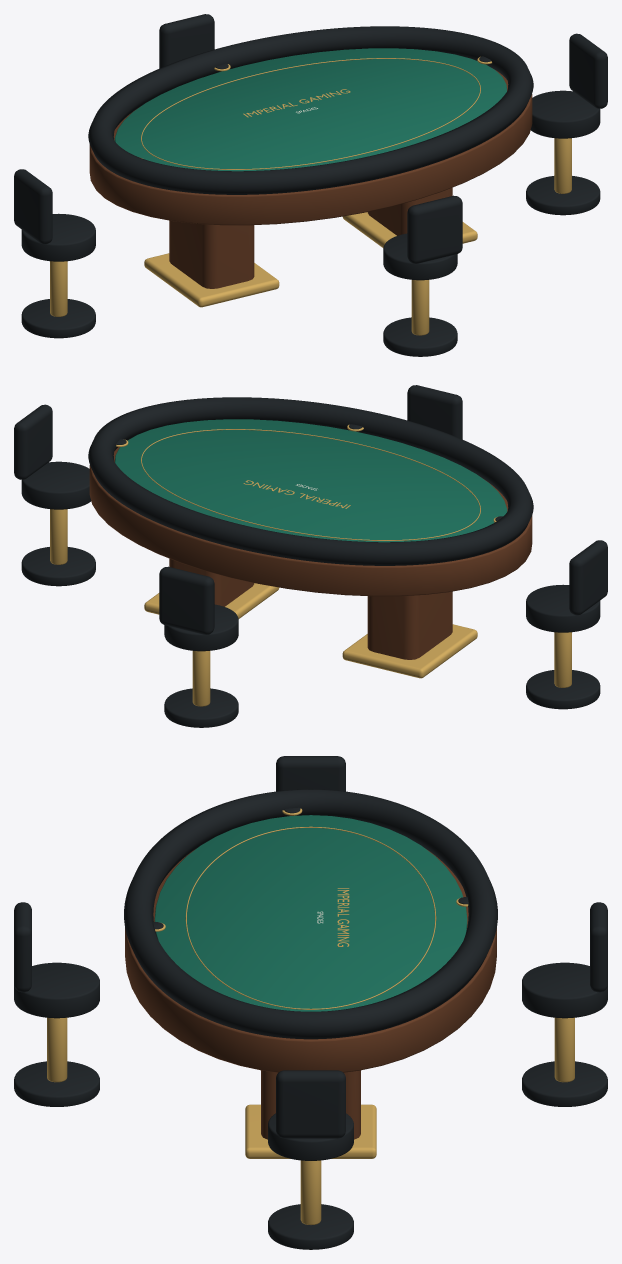
The model's file is Spades_4.glb.
3 renders of one model, top to bottom at view 1: azimuth 30°, elevation 25°; view 2: azimuth 150°, elevation 25°; view 3: azimuth 270°, elevation 25°, orthographic. The views are drawn at different scales.
Visible parts, largest first — view 1: Emerald playing surface, Padded perimeter rail, Walnut table cabinet, Pedestal, Seat 00 backrest, Seat 01 cushion, Pedestal brass shoe, Seat 03 cushion, Seat 03 backrest, Seat 01 backrest, Seat 02 backrest, Seat 00 foot (+9 smaller); view 2: Emerald playing surface, Padded perimeter rail, Walnut table cabinet, Pedestal, Seat 02 backrest, Seat 01 cushion, Pedestal brass shoe, Seat 03 cushion, Seat 03 backrest, Seat 01 backrest, Seat 00 backrest, Seat 01 foot (+9 smaller); view 3: Emerald playing surface, Padded perimeter rail, Walnut table cabinet, Seat 01 backrest, Seat 00 cushion, Seat 02 cushion, Seat 01 foot, Seat 00 foot, Seat 02 foot, Seat 03 backrest, Pedestal brass shoe.001, Seat 01 cushion (+7 smaller).
Boxes of the visible parts, bbox=[...] form: Emerald playing surface: bbox=[114, 48, 506, 171]; Padded perimeter rail: bbox=[88, 26, 533, 194]; Walnut table cabinet: bbox=[89, 68, 532, 225]; Pedestal: bbox=[169, 220, 254, 288]; Seat 00 backrest: bbox=[407, 195, 462, 263]; Seat 01 cushion: bbox=[530, 90, 600, 138]; Pedestal brass shoe: bbox=[144, 253, 279, 307]; Seat 03 cushion: bbox=[21, 213, 95, 261]; Seat 03 backrest: bbox=[14, 169, 52, 244]; Seat 01 backrest: bbox=[569, 33, 607, 108]; Seat 02 backrest: bbox=[159, 14, 214, 68]; Seat 00 foot: bbox=[383, 317, 457, 356]; Emerald playing surface: bbox=[115, 419, 507, 542]; Padded perimeter rail: bbox=[88, 397, 533, 565]; Walnut table cabinet: bbox=[89, 439, 532, 596]; Pedestal: bbox=[367, 591, 452, 659]; Seat 02 backrest: bbox=[159, 566, 214, 634]; Seat 01 cushion: bbox=[21, 461, 91, 509]; Pedestal brass shoe: bbox=[342, 624, 477, 678]; Seat 03 cushion: bbox=[526, 584, 600, 632]; Seat 03 backrest: bbox=[569, 540, 607, 615]; Seat 01 backrest: bbox=[14, 404, 52, 479]; Seat 00 backrest: bbox=[407, 385, 462, 439]; Seat 01 foot: bbox=[21, 547, 95, 586]; Emerald playing surface: bbox=[154, 815, 467, 1011]; Padded perimeter rail: bbox=[124, 789, 497, 1039]; Walnut table cabinet: bbox=[125, 849, 496, 1072]; Seat 01 backrest: bbox=[276, 1070, 345, 1138]; Seat 00 cushion: bbox=[14, 962, 99, 1018]; Seat 02 cushion: bbox=[522, 962, 607, 1018]; Seat 01 foot: bbox=[268, 1204, 353, 1249]; Seat 00 foot: bbox=[14, 1061, 99, 1106]; Seat 02 foot: bbox=[522, 1061, 607, 1106]; Seat 03 backrest: bbox=[276, 756, 345, 791]; Pedestal brass shoe.001: bbox=[245, 1104, 376, 1158]; Seat 01 cushion: bbox=[268, 1113, 353, 1160].
Size of the model in its own units: 3.36 by 0.9175 by 2.62.
